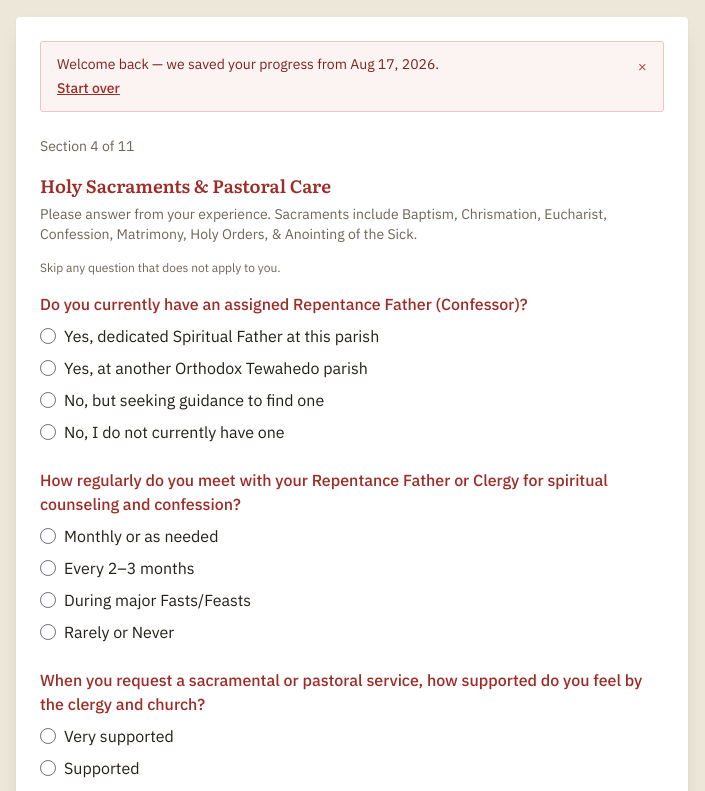
Test: SurveyPage › returning to a saved draft › erases the answers, the stored draft, and the section on the confirming tap
What coordinates should you click on to do the following:
click the button "Start over"
I would click on:
 (88, 88)
Its box is [57, 78, 120, 98].
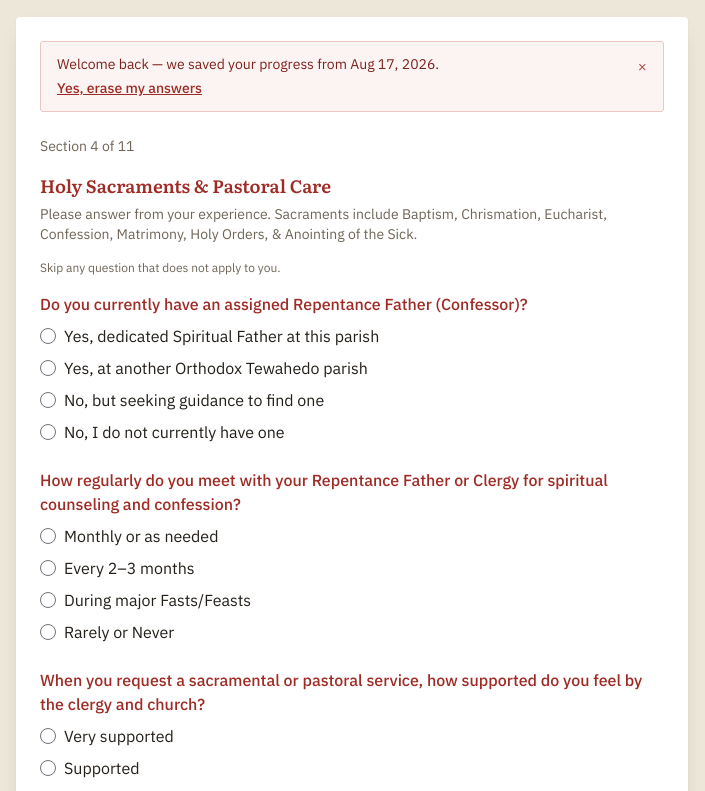
What coordinates should you click on to do the following:
click the button "Yes, erase my answers"
I would click on:
 (130, 88)
Its box is [57, 78, 202, 98].
(page scrolled)
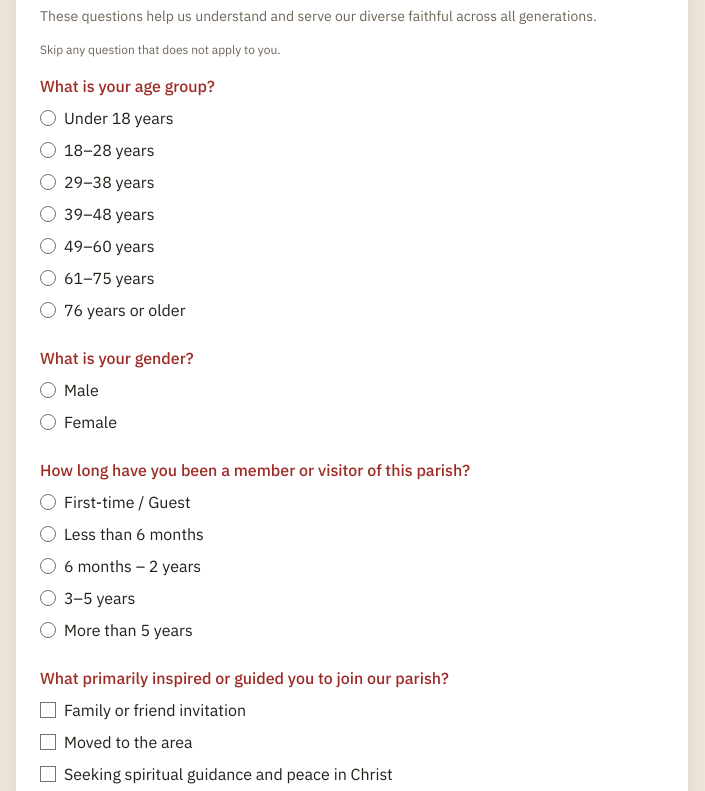
Result: the radio button labelled "Male" is not checked at [40, 382, 56, 398]
Result: the text "Welcome back" is gone
